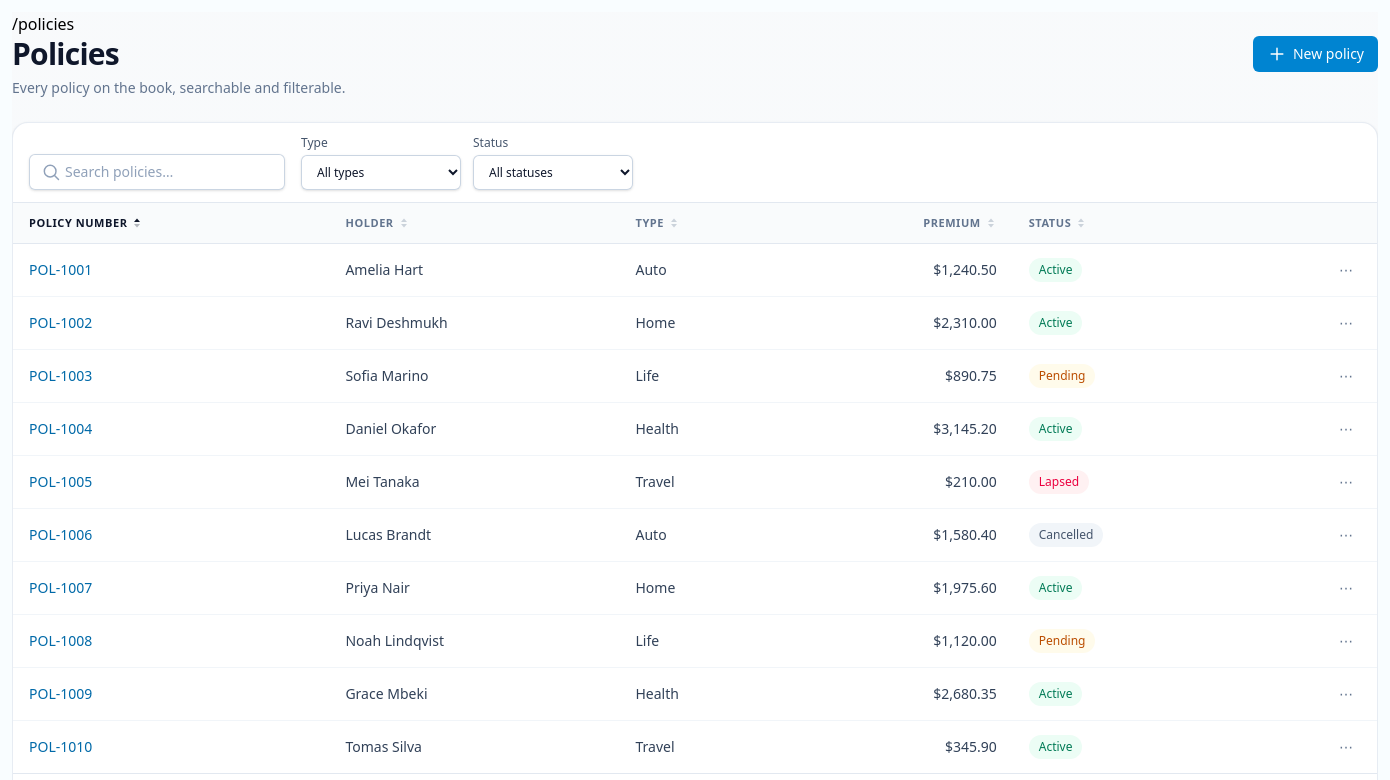
Test case: PolicyListPage › narrows the list with the search box
Expected: the link "POL-1001" is shown, [29,260,92,279]
Type "Ravi" into the search field with placeholder "Search policies…" at (157, 172), box [29,154,285,190]
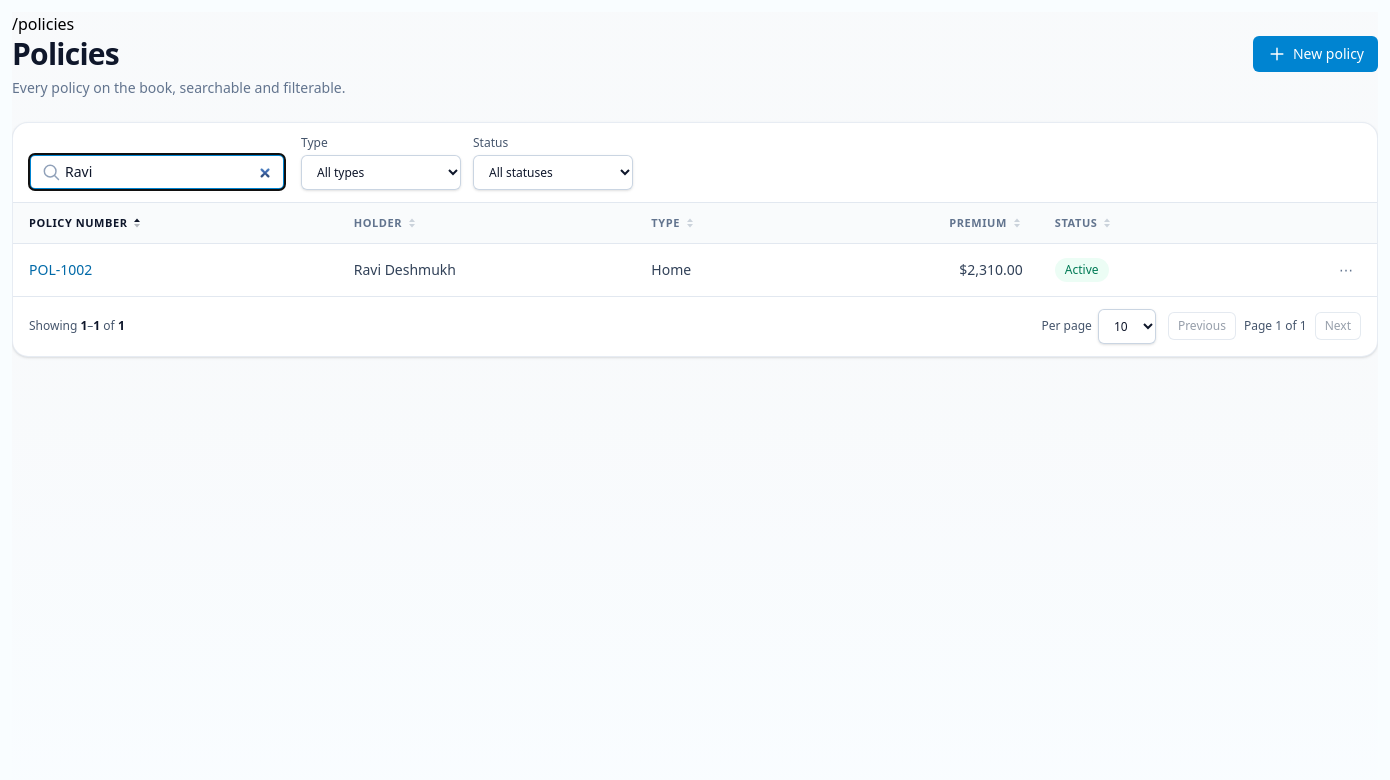
Expected: the link "POL-1002" is shown, [29,260,92,279]
Expected: the link "POL-1001" is gone
